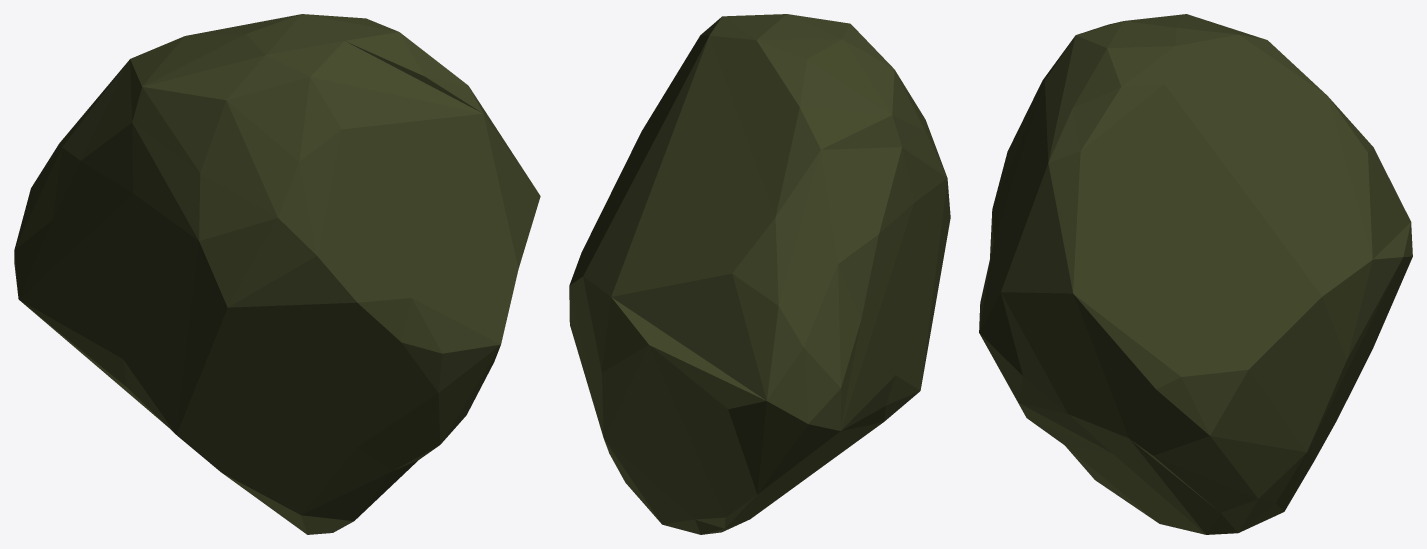
Rendered from SM_small_rock_34.fbx.
3 views of the same model, side by side, from view 1: azimuth 30°, elevation 25°; view 2: azimuth 150°, elevation 25°; view 3: azimuth 270°, elevation 25° (orthographic). The views are drawn at different scales.
Parts seen in each view (by area): view 1: small_rock_34; view 2: small_rock_34; view 3: small_rock_34.
Boxes of the visible parts, box(x1,y1,x2,y2) form: small_rock_34: box(14, 14, 540, 534); small_rock_34: box(569, 14, 950, 534); small_rock_34: box(979, 14, 1412, 534).
Size of the model in its own units: 12.73 by 16.61 by 13.81.
